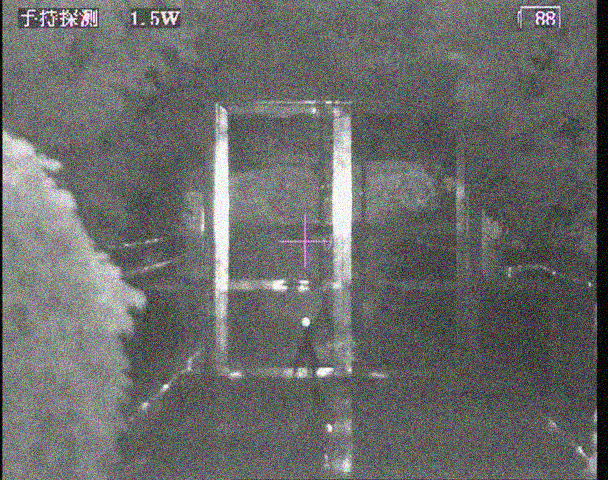my: (300, 316, 312, 328)
